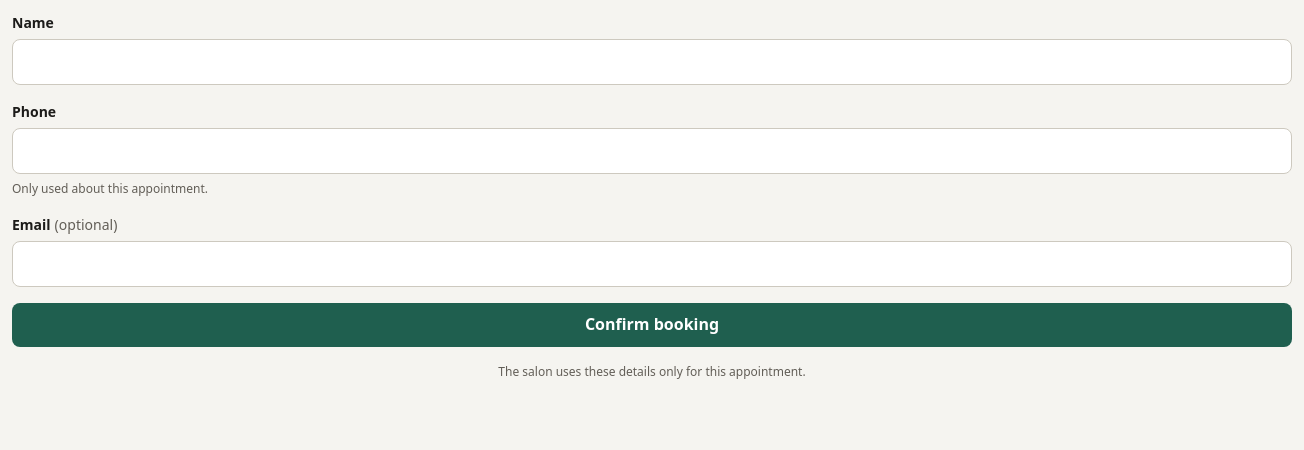
ContactForm › applies the server rules to the phone and the email
Type "Anna" into the field labelled "Name" at (652, 62), box [12, 39, 1292, 85]
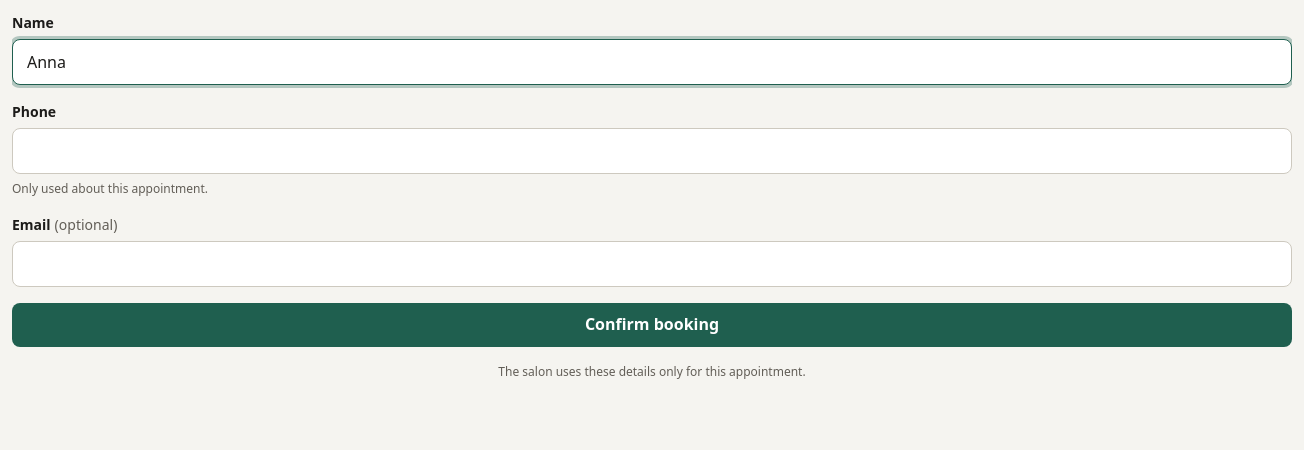
Type "123-45" into the field labelled "Phone" at (652, 151), box [12, 128, 1292, 174]
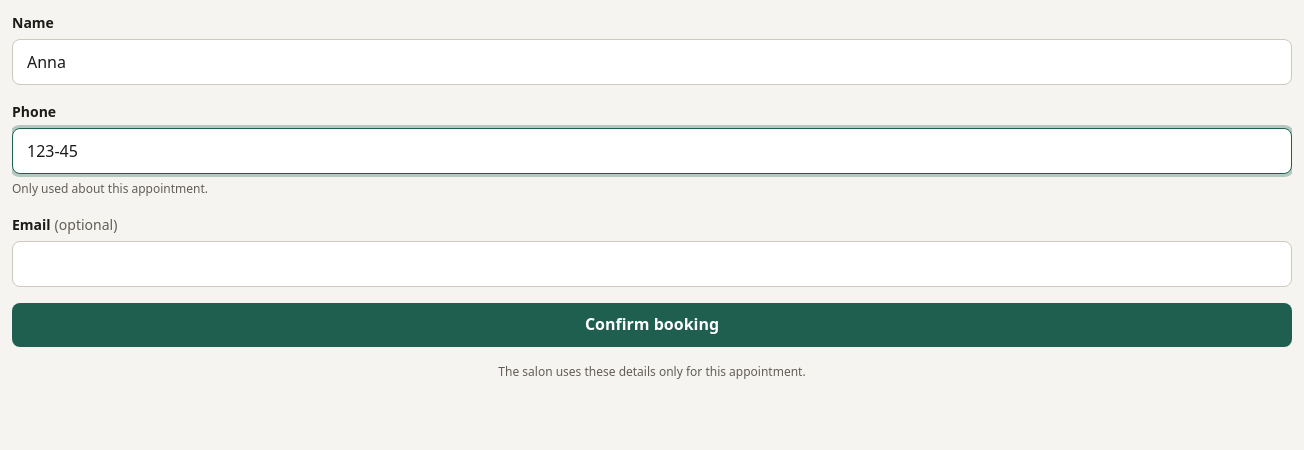
Type "anna@" into the field labelled "Email(optional)" at (652, 264), box [12, 241, 1292, 287]
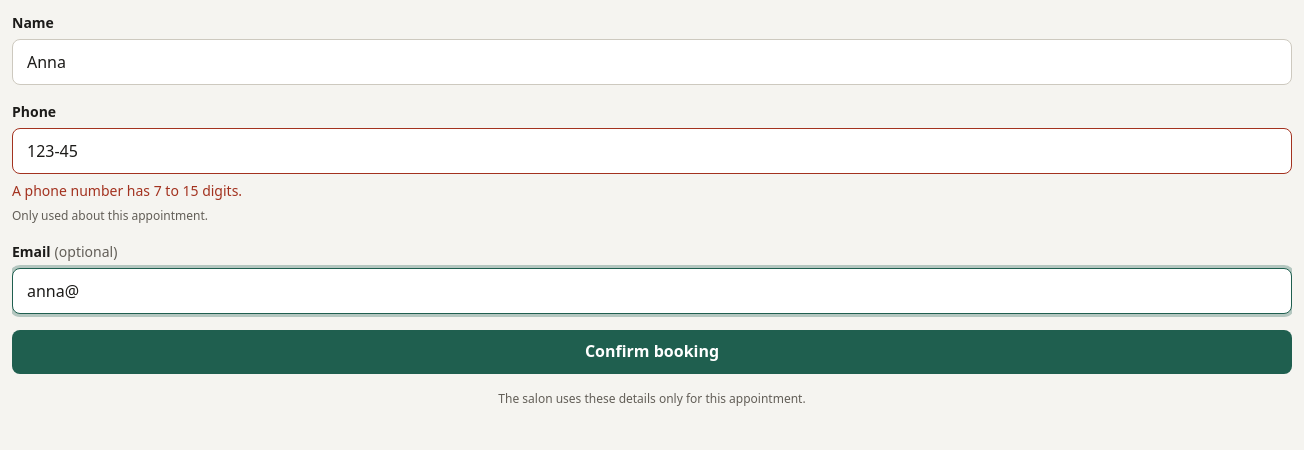
Click the button "Confirm booking" at (652, 352), box [12, 330, 1292, 374]
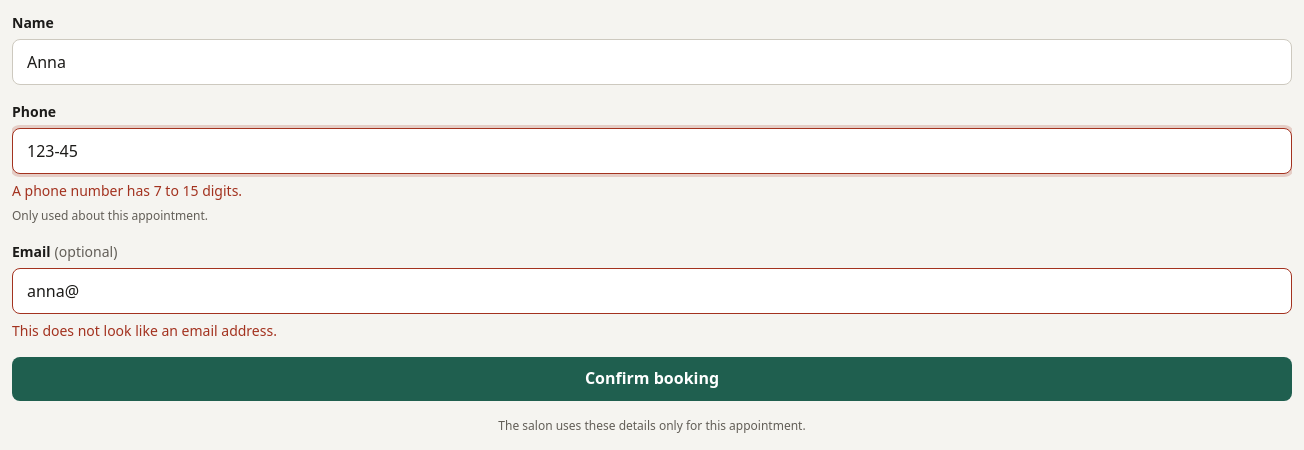
Check: the text "A phone number has 7 to 15 digits." is shown, box [12, 181, 242, 200]
Check: the text "This does not look like an email address." is shown, box [12, 321, 277, 340]
